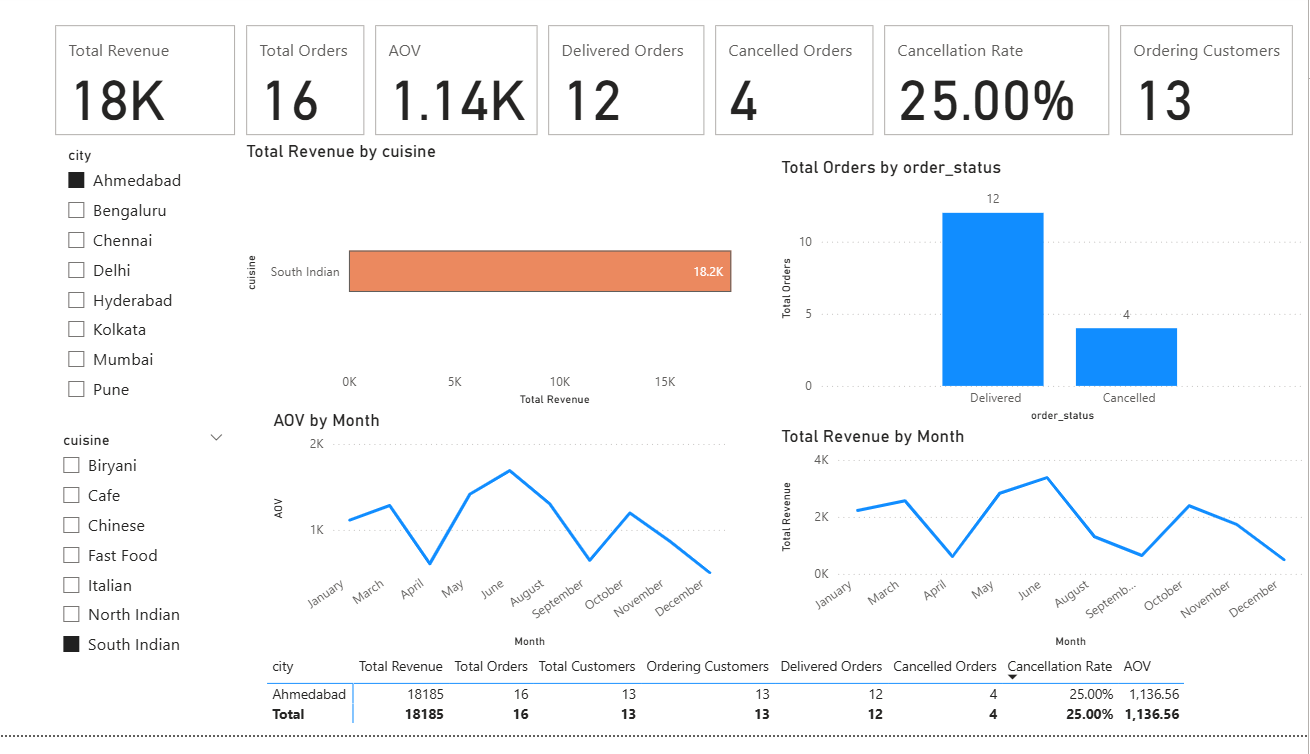

This screenshot's page, from the dashboard's own definition file:
{"tool":"powerbi","page":{"name":"Overview","canvas":[1280,720],"ordinal":0},"visuals":[{"type":"cardVisual","fields":{"Data":["_measures.Total Revenue"]},"box":[56.4,24.3,185.8,117.7],"z":0},{"type":"cardVisual","fields":{"Data":["_measures.AOV"]},"box":[367.7,24.3,168.3,117.7],"z":1000},{"type":"cardVisual","fields":{"Data":["_measures.Total Orders"]},"box":[242.2,24.3,125.5,117.7],"z":2000},{"type":"cardVisual","fields":{"Data":["_measures.Delivered Orders"]},"box":[535.9,24.3,162.4,117.7],"z":3000},{"type":"cardVisual","fields":{"Data":["_measures.Cancelled Orders"]},"box":[698.4,24.3,164.4,117.7],"z":4000},{"type":"cardVisual","fields":{"Data":["_measures.Cancellation Rate"]},"box":[862.7,24.3,229.5,117.7],"z":5000},{"type":"cardVisual","fields":{"Data":["_measures.Ordering Customers"]},"box":[1092.3,24.3,179,117.7],"z":6000},{"type":"slicer","fields":{"Values":["customers(1).city"]},"box":[61.3,142,176,261.6],"z":7000},{"type":"slicer","fields":{"Values":["restaurants(1).cuisine"]},"box":[56.4,419.2,180.9,230.5],"z":8000},{"type":"clusteredBarChart","fields":{"Category":["restaurants(1).cuisine"],"Y":["_measures.Total Revenue"]},"box":[242.2,142,520.4,261.6],"z":9000},{"type":"lineChart","fields":{"Category":["orders(1).order_date.Variation.Date Hierarchy.Year","orders(1).order_date.Variation.Date Hierarchy.Quarter","orders(1).order_date.Variation.Date Hierarchy.Month","orders(1).order_date.Variation.Date Hierarchy.Day"],"Y":["_measures.Total Revenue"]},"box":[762.6,419.2,517.4,219.8],"z":10000},{"type":"clusteredColumnChart","fields":{"Category":["orders(1).order_status"],"Y":["_measures.Total Orders"]},"box":[762.6,157.6,517.4,261.6],"z":11000},{"type":"pivotTable","fields":{"Rows":["customers(1).city"],"Values":["_measures.Total Revenue","_measures.Total Orders","_measures.Total Customers","_measures.Ordering Customers","_measures.Delivered Orders","_measures.Cancelled Orders","_measures.Cancellation Rate","_measures.AOV"]},"box":[262.6,637.1,1017.4,82.7],"z":12000},{"type":"lineChart","fields":{"Category":["orders(1).order_date.Variation.Date Hierarchy.Month"],"Y":["_measures.AOV"]},"box":[268.4,403.6,450.3,235.4],"z":14000}]}

Visuals, with their boxes in screenshot pixels (x1, y1, x2, y2), scaled from the page's 1280x720 canvas onto the 1310x754 screenshot:
cardVisual - _measures.Total Revenue: crop(58, 25, 248, 149)
cardVisual - _measures.AOV: crop(376, 25, 549, 149)
cardVisual - _measures.Total Orders: crop(248, 25, 376, 149)
cardVisual - _measures.Delivered Orders: crop(548, 25, 715, 149)
cardVisual - _measures.Cancelled Orders: crop(715, 25, 883, 149)
cardVisual - _measures.Cancellation Rate: crop(883, 25, 1118, 149)
cardVisual - _measures.Ordering Customers: crop(1118, 25, 1301, 149)
slicer - customers(1).city: crop(63, 149, 243, 423)
slicer - restaurants(1).cuisine: crop(58, 439, 243, 680)
clusteredBarChart - restaurants(1).cuisine x _measures.Total Revenue: crop(248, 149, 780, 423)
lineChart - orders(1).order_date.Variation.Date Hierarchy.Year x orders(1).order_date.Variation.Date Hierarchy.Quarter: crop(780, 439, 1309, 669)
clusteredColumnChart - orders(1).order_status x _measures.Total Orders: crop(780, 165, 1309, 439)
pivotTable - customers(1).city x _measures.Total Revenue: crop(269, 667, 1309, 753)
lineChart - orders(1).order_date.Variation.Date Hierarchy.Month x _measures.AOV: crop(275, 423, 736, 669)
